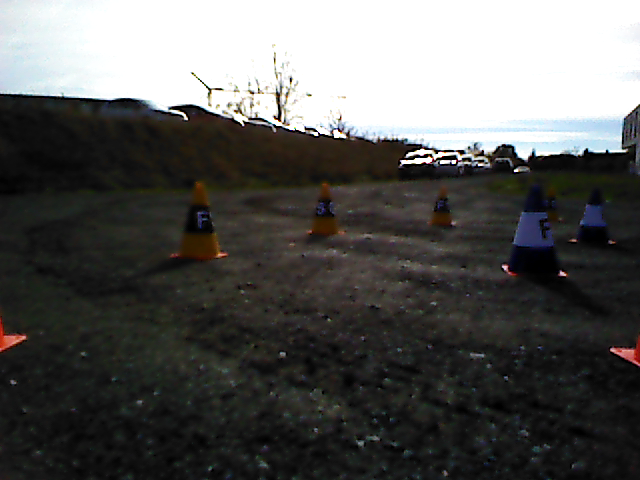bluecone: (508, 186, 557, 270), (577, 192, 608, 241)
yellowcone: (180, 181, 218, 254), (312, 183, 337, 233), (430, 186, 453, 223)
